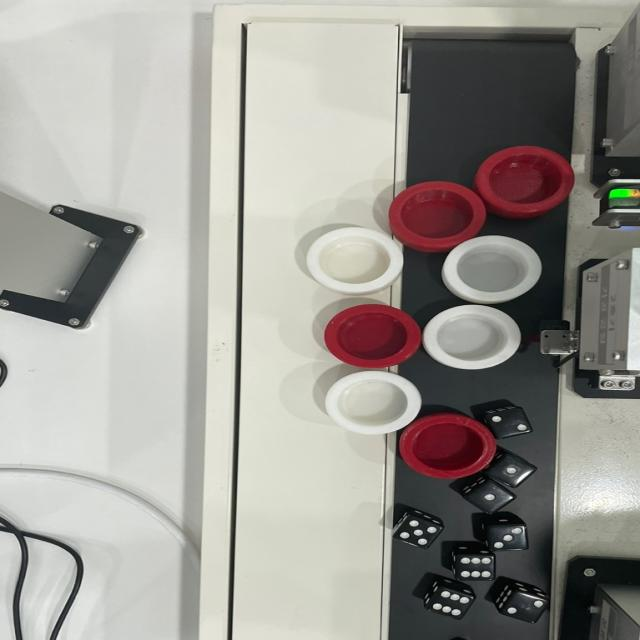DICE1: (485, 453, 541, 489), (462, 480, 515, 516)
DICE2: (499, 591, 550, 624), (484, 406, 534, 439)
DICE3: (481, 524, 527, 552)
DICE5: (392, 513, 447, 551)
DICE6: (423, 587, 475, 621), (455, 555, 495, 580)
RedChip: (323, 303, 422, 369), (481, 145, 574, 212), (392, 181, 486, 246), (397, 414, 494, 476)
WhiteChip: (425, 306, 527, 369), (307, 228, 407, 292), (445, 234, 540, 301), (327, 370, 422, 436)
